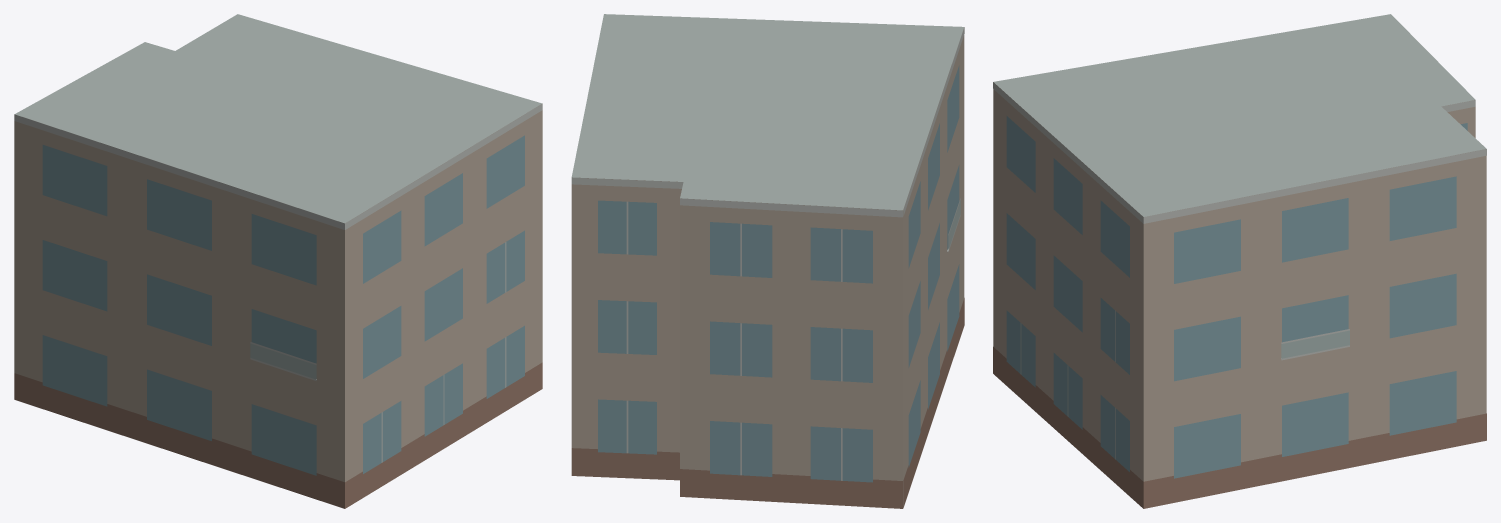
The model's file is survey-upis-32750243.glb.
3 views of the same model, side by side, from view 1: azimuth 30°, elevation 25°; view 2: azimuth 150°, elevation 25°; view 3: azimuth 270°, elevation 25° (orthographic). The views are drawn at different scales.
Parts seen in each view (by area): view 1: survey-upis-32750243.tmp; view 2: survey-upis-32750243.tmp; view 3: survey-upis-32750243.tmp.
Part boxes in pixels (x1,y1,x2,y2): survey-upis-32750243.tmp: [14, 14, 542, 508]; survey-upis-32750243.tmp: [571, 14, 964, 508]; survey-upis-32750243.tmp: [993, 14, 1486, 508].
Size of the model in its own units: 15.53 by 10.4 by 15.96.
